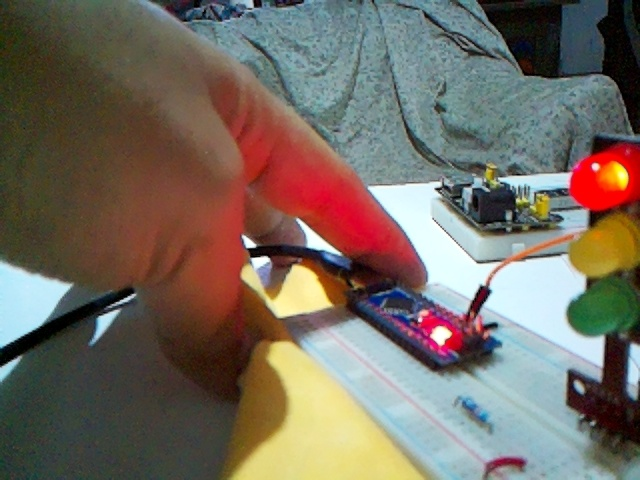traffic_light_red: (567, 133, 640, 336)
